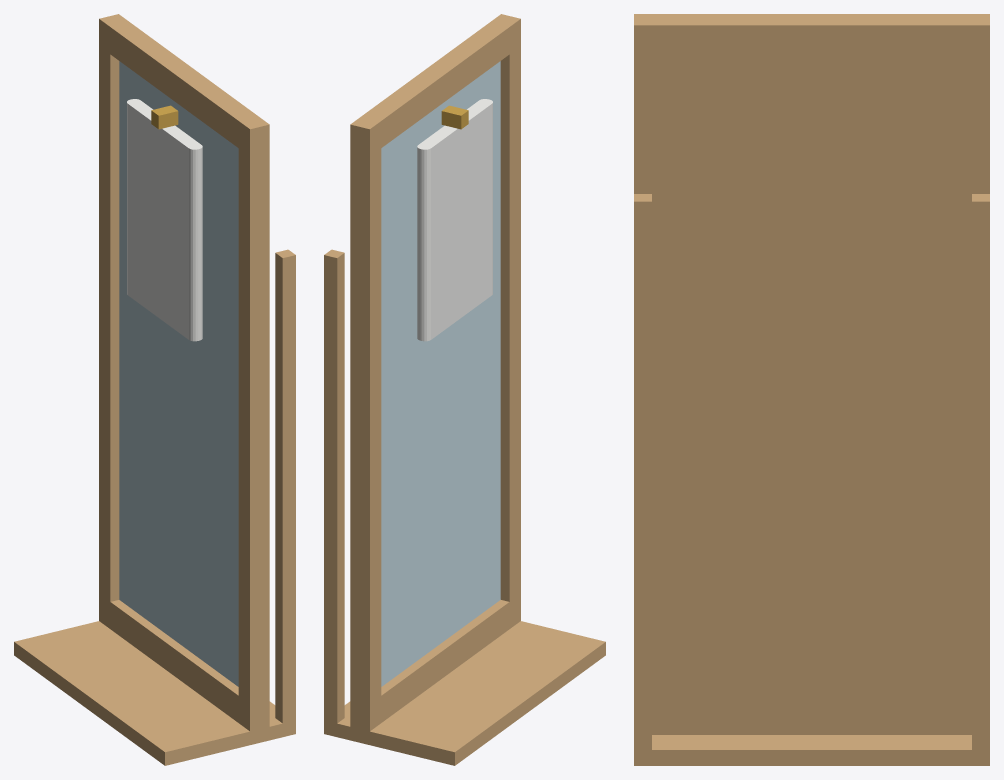
The model's file is floor_mirror.glb.
The picture shows the model from 3 angles, left to right: view 1: azimuth 30°, elevation 25°; view 2: azimuth 150°, elevation 25°; view 3: azimuth 270°, elevation 25°; orthographic projection. The views are drawn at different scales.
Visible parts, largest first — view 1: floor_mirror_Body; view 2: floor_mirror_Body; view 3: floor_mirror_Body.
Boxes of the visible parts, bbox=[...] form: floor_mirror_Body: bbox=[14, 14, 295, 765]; floor_mirror_Body: bbox=[324, 14, 605, 765]; floor_mirror_Body: bbox=[634, 14, 989, 765].
Size of the model in its own units: 0.4 by 1.8 by 0.8.
